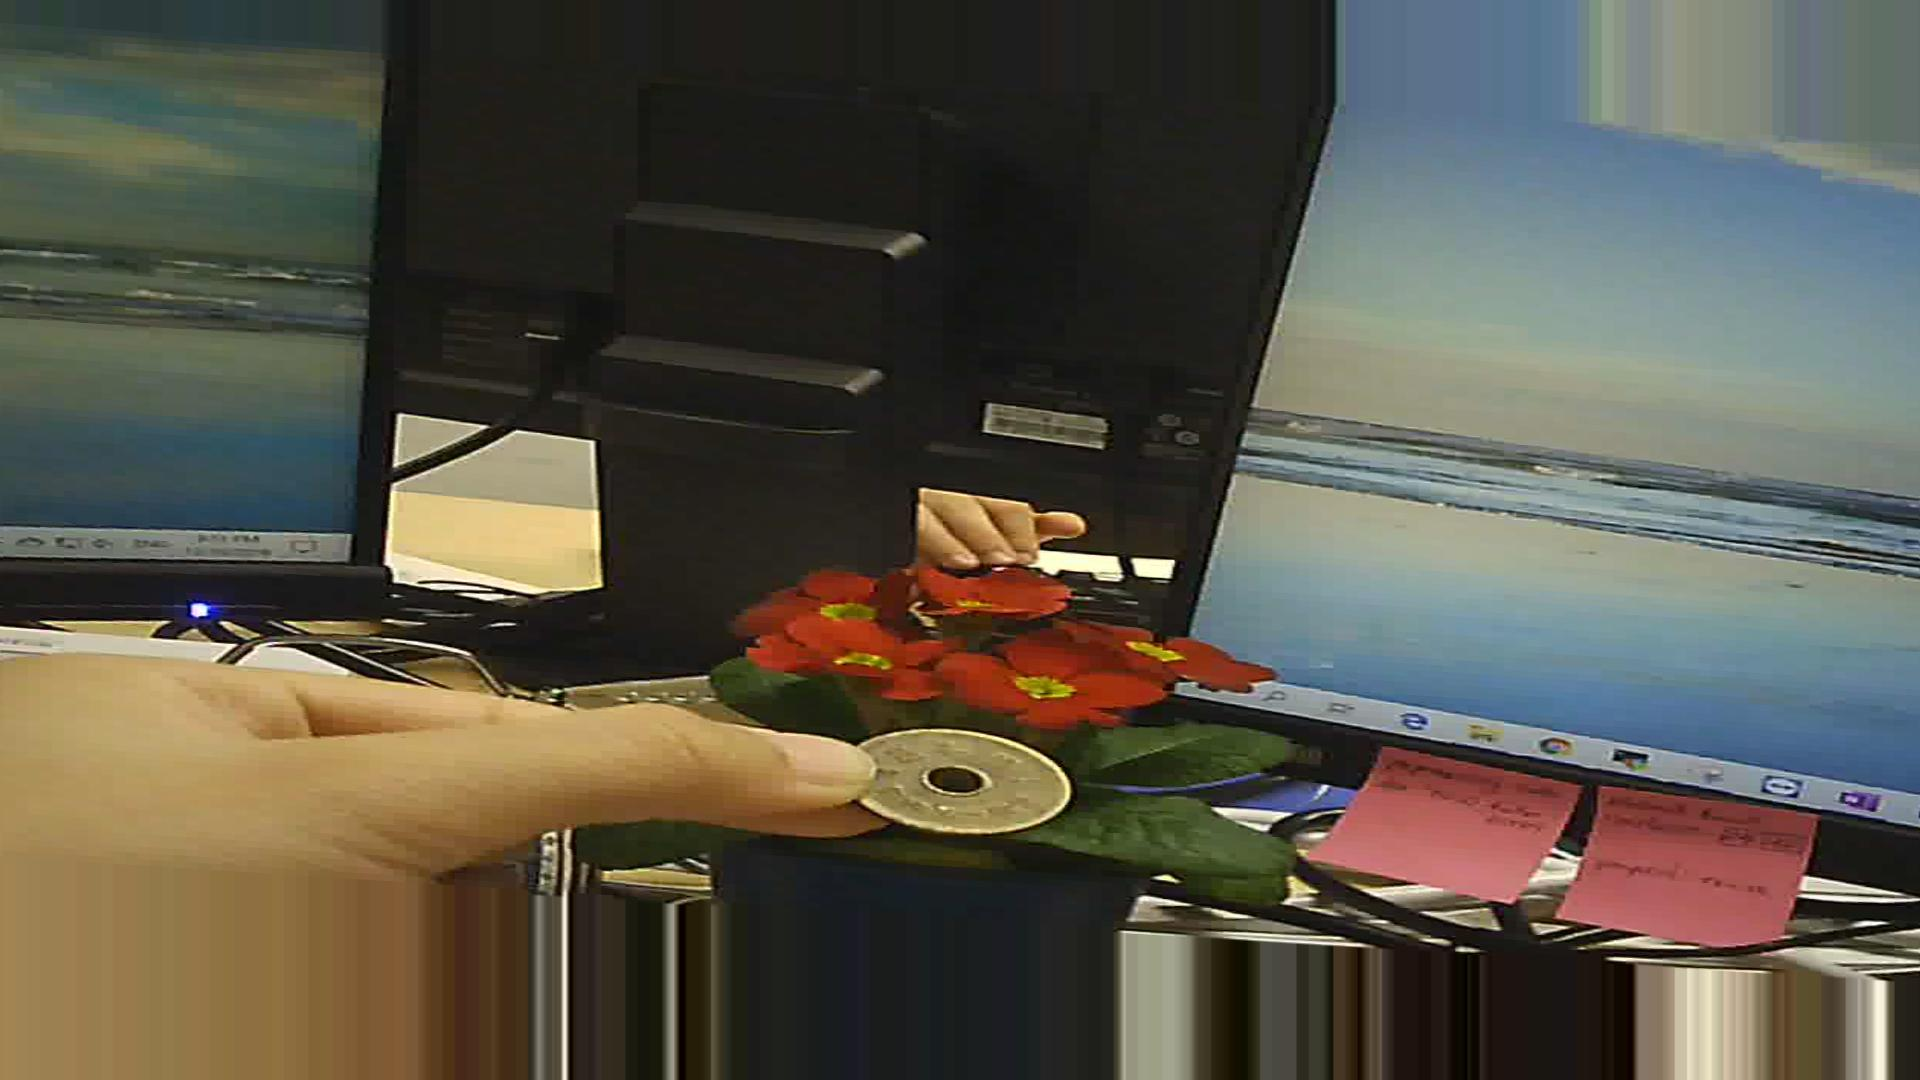5 Yen: (856, 731, 1080, 847)
